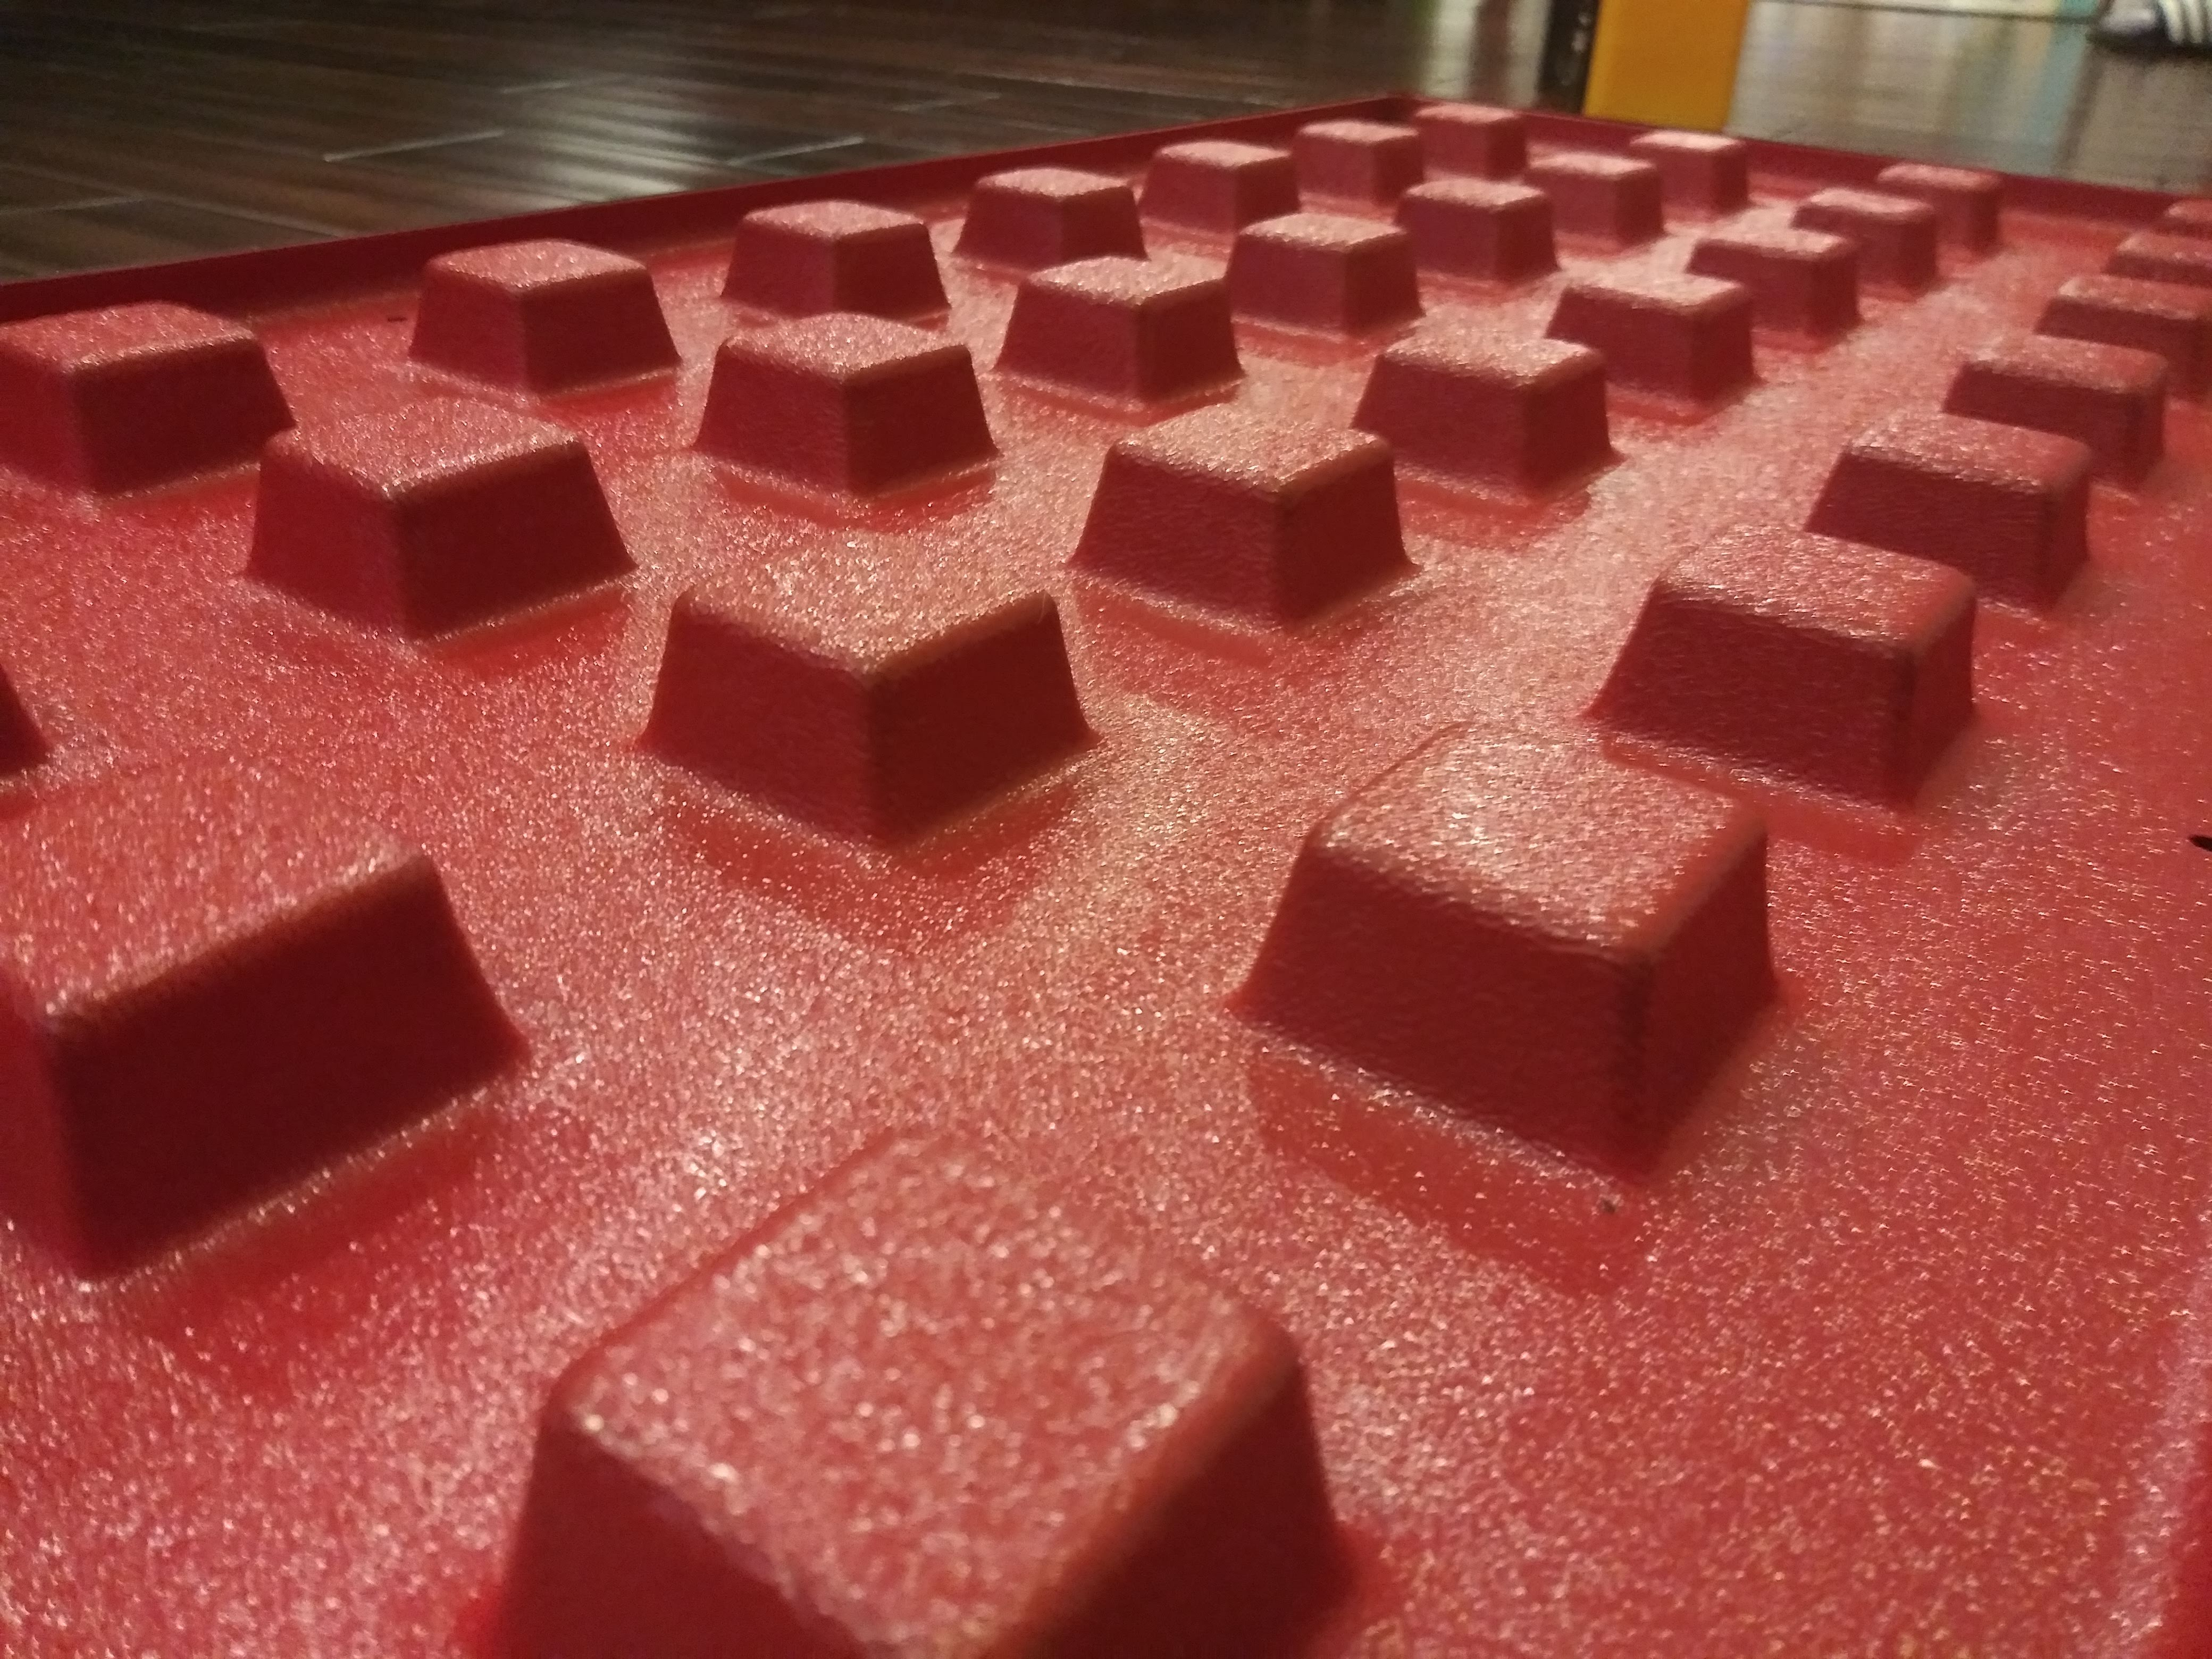red foundation: (19, 242, 2186, 1629)
